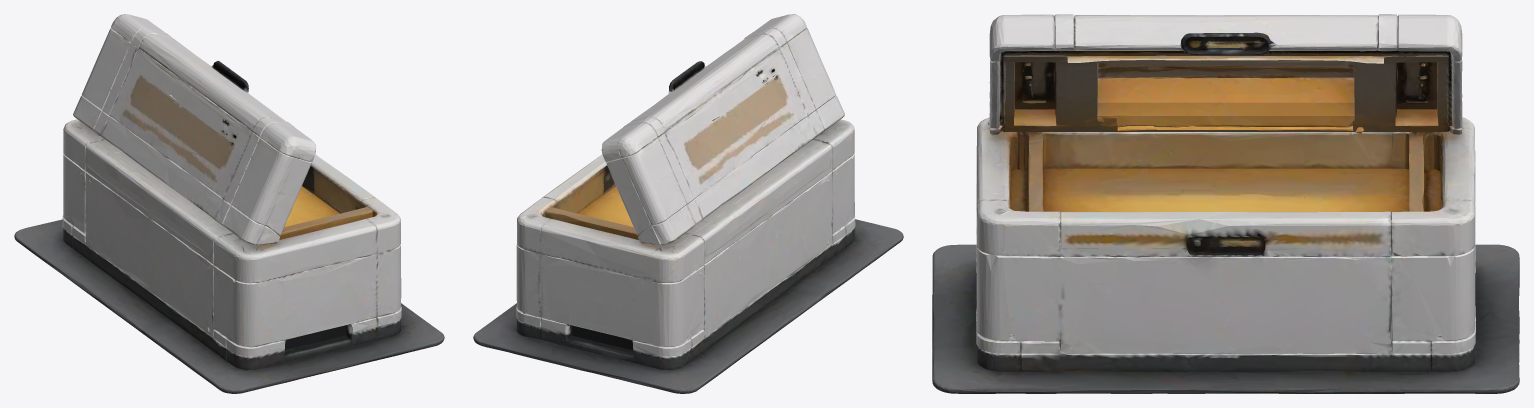
File: futuristic-storage-chest-optimized.glb
3 views of the same model, side by side, from view 1: azimuth 30°, elevation 25°; view 2: azimuth 150°, elevation 25°; view 3: azimuth 270°, elevation 25° (orthographic). The views are drawn at different scales.
Visible parts, largest first — view 1: tripo_node_5e06276d-01e3-420b-8856-ec654e922b10; view 2: tripo_node_5e06276d-01e3-420b-8856-ec654e922b10; view 3: tripo_node_5e06276d-01e3-420b-8856-ec654e922b10.
Part boxes in pixels (x1,y1,x2,y2): tripo_node_5e06276d-01e3-420b-8856-ec654e922b10: (14,14,444,393); tripo_node_5e06276d-01e3-420b-8856-ec654e922b10: (473,14,903,393); tripo_node_5e06276d-01e3-420b-8856-ec654e922b10: (932,14,1519,393).
Bounding box in the file's own units: 0.5852 × 0.5499 × 1.
1 material, 1 textured.
